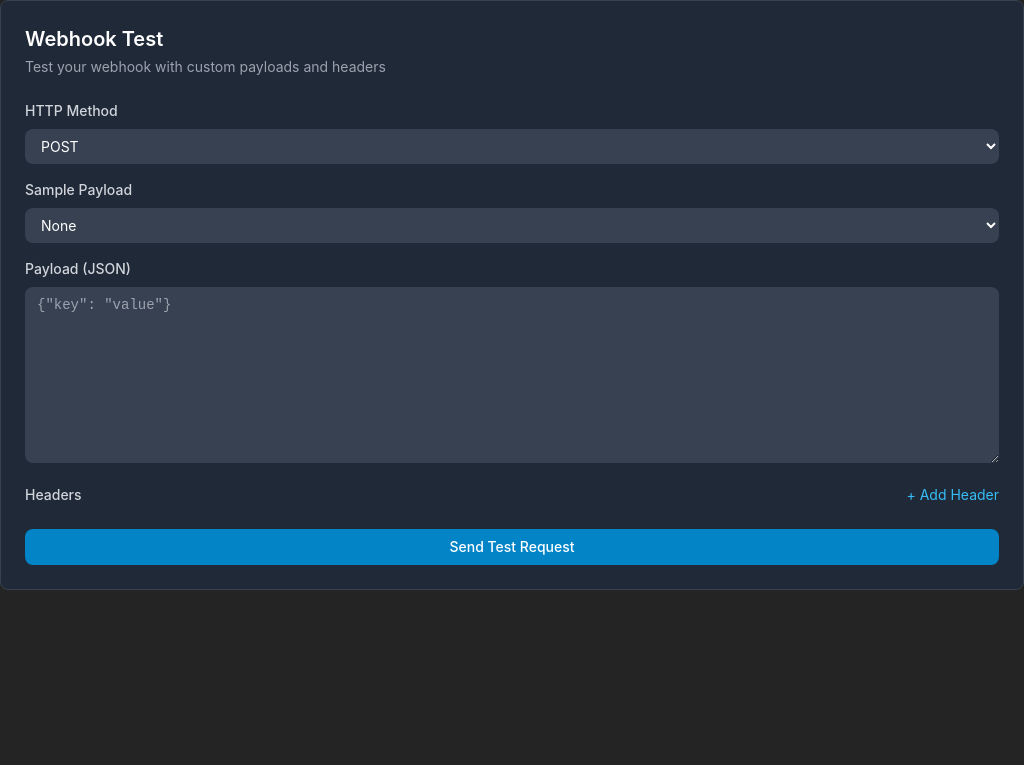
it: WebhookTestPanel › Response Viewer - Errors › should handle network errors
Click the button "Send Test Request": coordinates (512, 547) [25, 529, 999, 565]
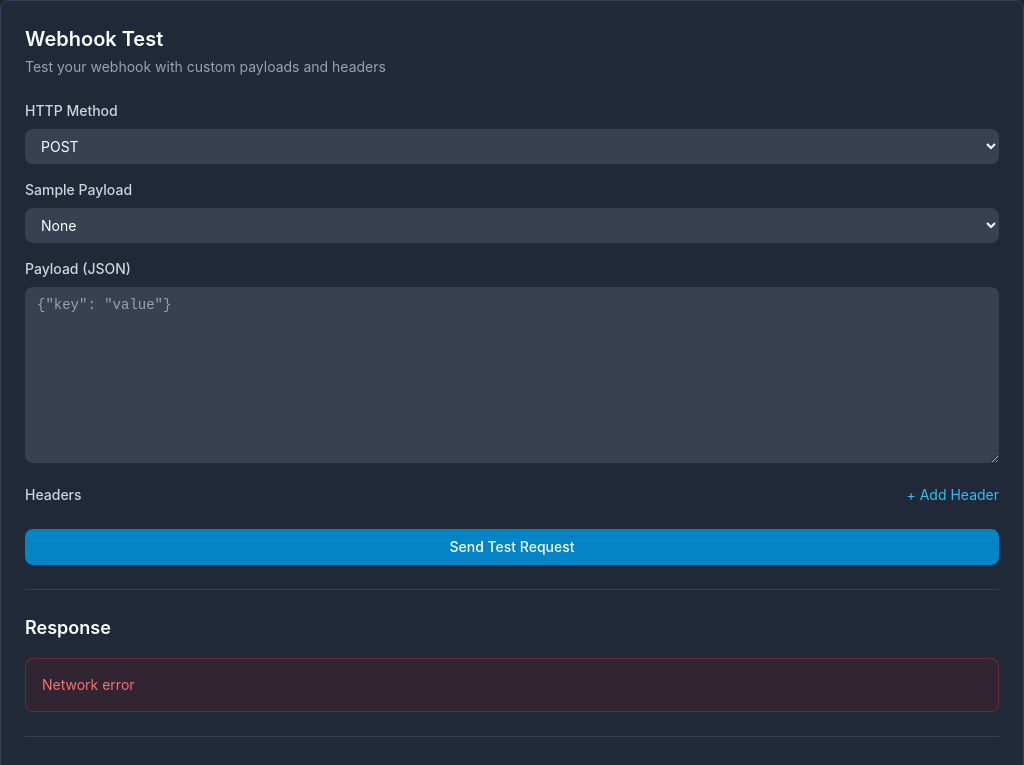
Check: the text "Network error" is shown, box [42, 676, 135, 693]
